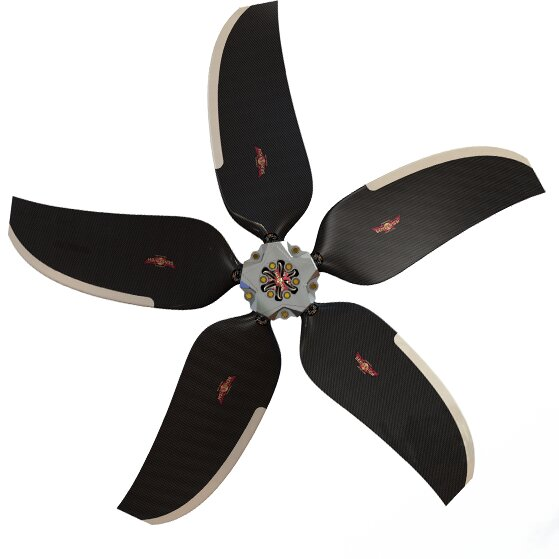Propeller: (86, 25, 517, 510)
